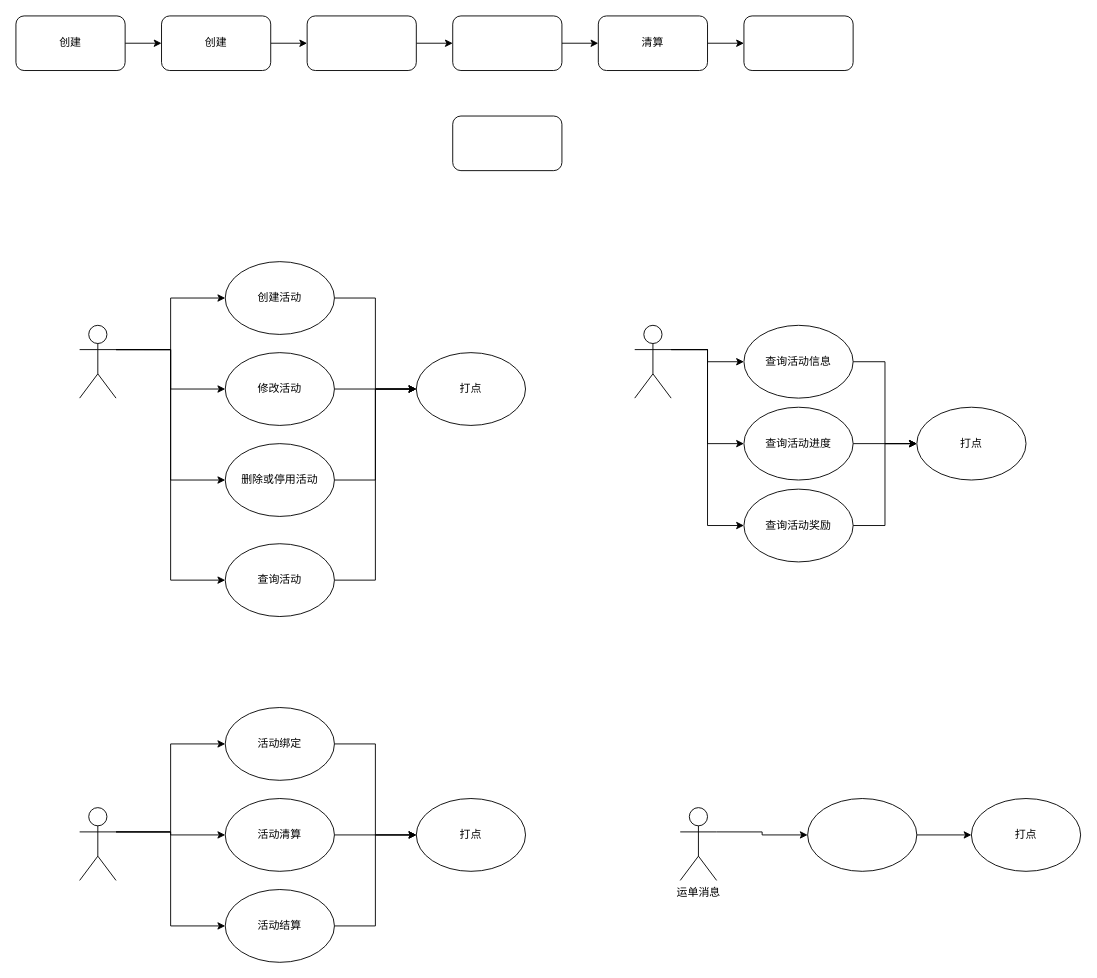
Some shapes in this 1097 by 978 pixel diagram are drawn without their labels. The shapes that lost their labels are listed below. From the top down, each one's box as (x1, y1, x2, y2) in pixels, then its label:
(306, 15, 416, 71): 绑定
(452, 15, 562, 71): 统计
(743, 15, 853, 71): 结算
(452, 115, 562, 171): 查询
(79, 324, 116, 398): 业务运营
(634, 324, 671, 398): 骑手
(79, 807, 116, 880): 定时任务
(807, 798, 917, 871): 活动统计
